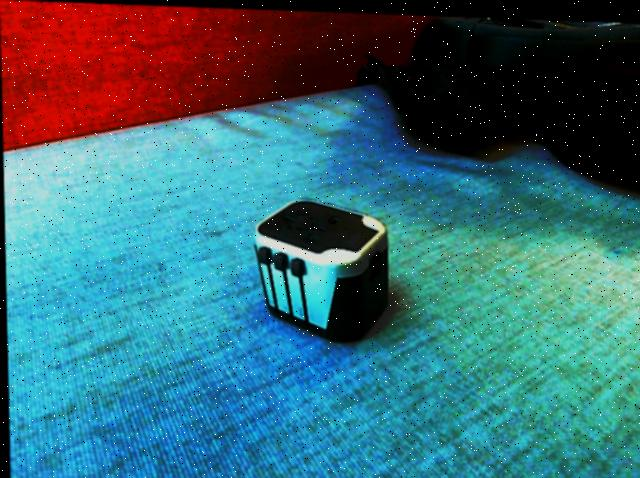adapter: (251, 195, 388, 341)
